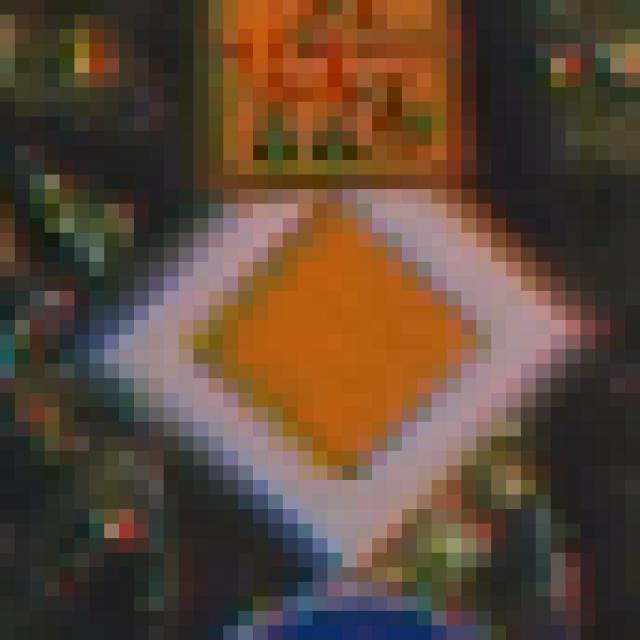Main Road: (90, 89, 567, 569)
